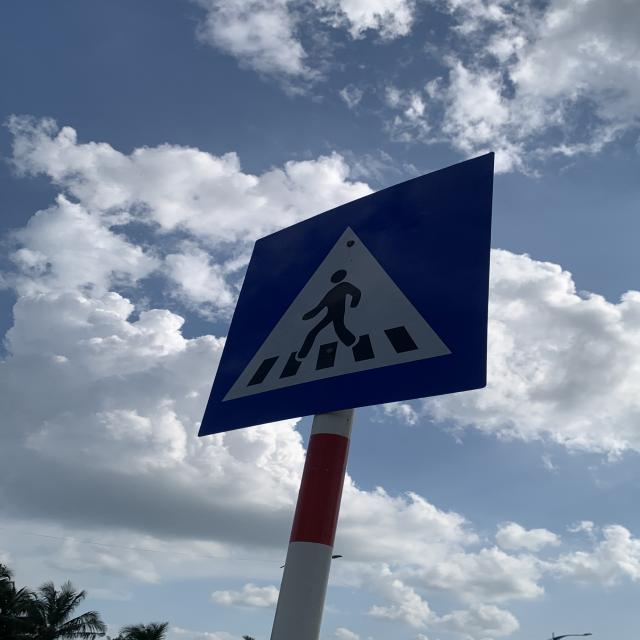Giao_Nhau_Duong_Uu_Tien: (200, 153, 490, 434)
